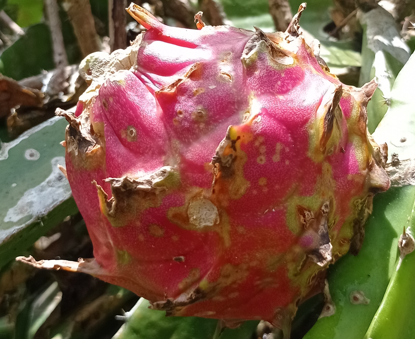Matang: (41, 30, 397, 304)
